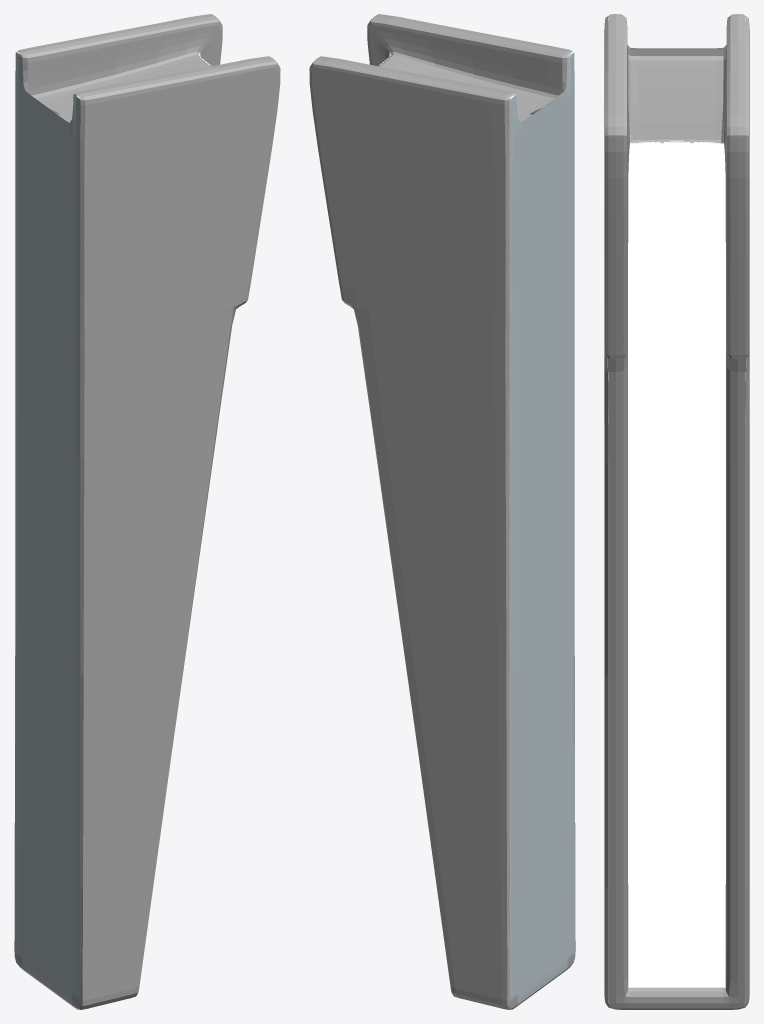
The picture shows the model from 3 angles, left to right: view 1: azimuth 30°, elevation 25°; view 2: azimuth 150°, elevation 25°; view 3: azimuth 270°, elevation 25°; orthographic projection. The views are drawn at different scales.
Parts seen in each view (by area): view 1: Wall Light.063; view 2: Wall Light.063; view 3: Wall Light.063.
Boxes of the visible parts, box(x1,y1,x2,y2) form: Wall Light.063: box(14, 14, 280, 1009); Wall Light.063: box(309, 14, 575, 1009); Wall Light.063: box(604, 14, 749, 1009).
Size of the model in its own units: 6.92 by 30.16 by 4.1.
1 material, 1 textured.
